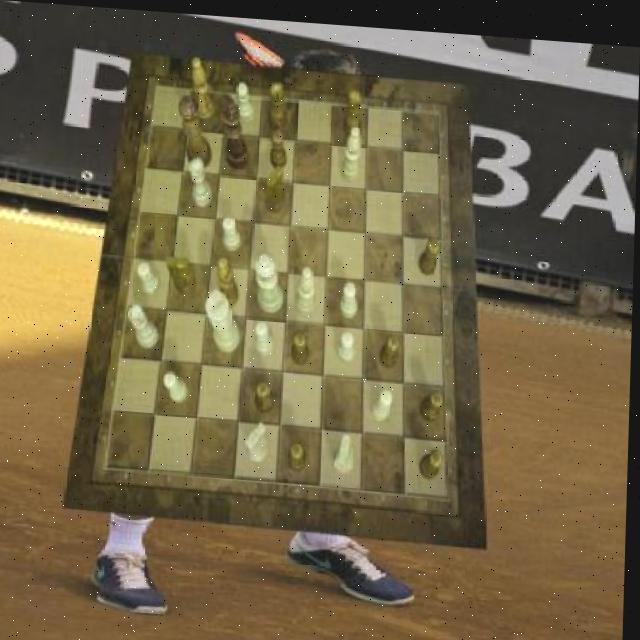bishop: (192, 55, 217, 117), (218, 253, 242, 305)
black-bishop: (218, 90, 252, 166)
black-king: (167, 253, 198, 293), (267, 161, 288, 209)
black-knight: (421, 383, 446, 417), (420, 231, 441, 270), (424, 442, 447, 475), (381, 327, 402, 363), (271, 125, 288, 166), (257, 377, 277, 410), (294, 325, 312, 361), (290, 437, 309, 470)
black-pawn: (178, 92, 215, 166)
black-queen: (268, 77, 289, 129), (344, 83, 364, 133)
black-rook: (296, 261, 318, 313), (343, 120, 363, 177)
white-bishop: (206, 286, 243, 351)
white-king: (248, 418, 272, 459), (334, 428, 358, 469)
white-knight: (165, 368, 190, 402), (138, 259, 162, 294), (236, 78, 255, 119), (372, 381, 394, 416), (257, 317, 277, 354), (224, 212, 244, 247), (342, 277, 360, 313), (340, 325, 358, 359)
white-pawn: (255, 246, 286, 309)
white-queen: (129, 302, 161, 346), (190, 154, 215, 205)
